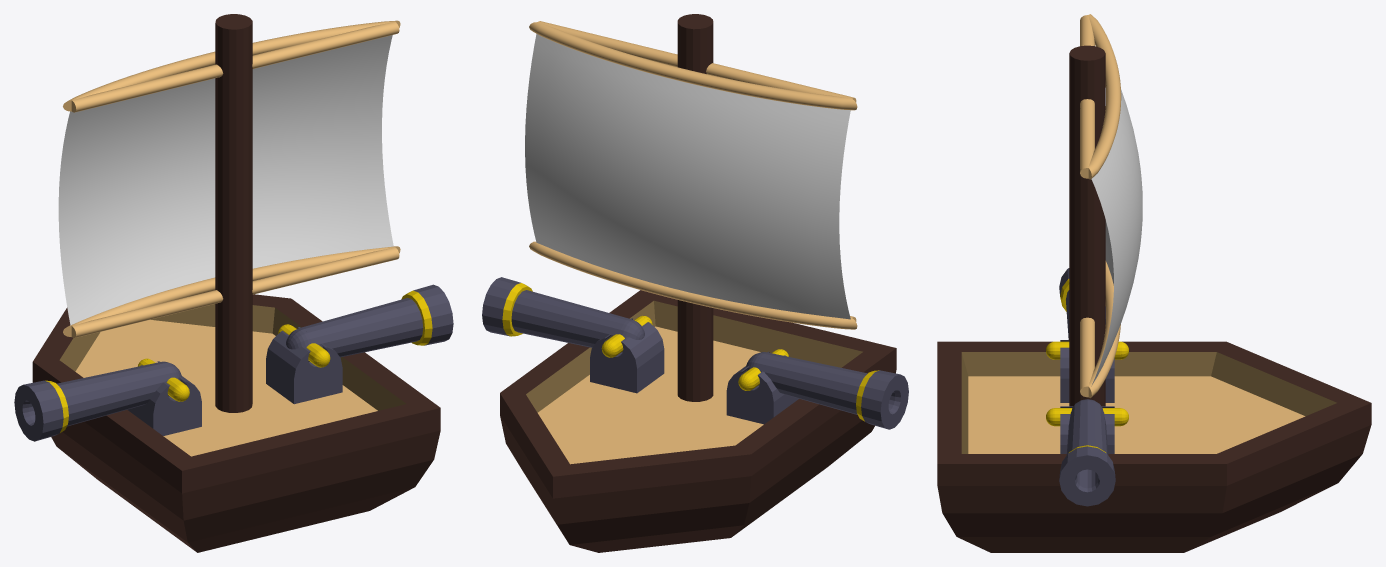
The model's file is compositelilship.fbx.
The picture shows the model from 3 angles, left to right: view 1: azimuth 30°, elevation 25°; view 2: azimuth 150°, elevation 25°; view 3: azimuth 270°, elevation 25°; orthographic projection. The views are drawn at different scales.
Parts seen in each view (by area): view 1: Plane; view 2: Plane; view 3: Plane.
Boxes of the visible parts, x1,y1,x2,y2 form: Plane: (14,14,453,552); Plane: (482,14,908,552); Plane: (937,14,1371,552).
Size of the model in its own units: 476 by 525 by 450.
